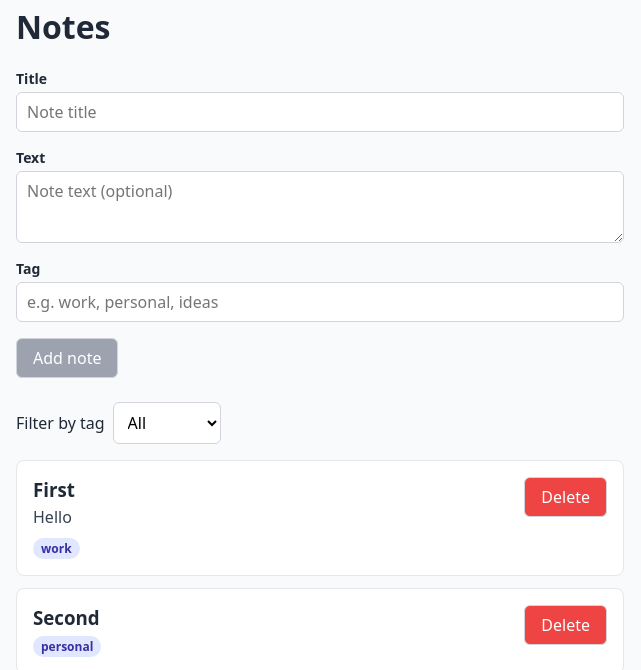
it: Notes with tags UI › shows an error message when deleting a missing note
This screenshot has width=641, height=670.
Expected: the heading "First" is shown, x1=33 y1=477 x2=80 y2=502
Step 1. Click the button with aria-label "Delete note First" → click(566, 497), box x1=524 y1=477 x2=607 y2=517
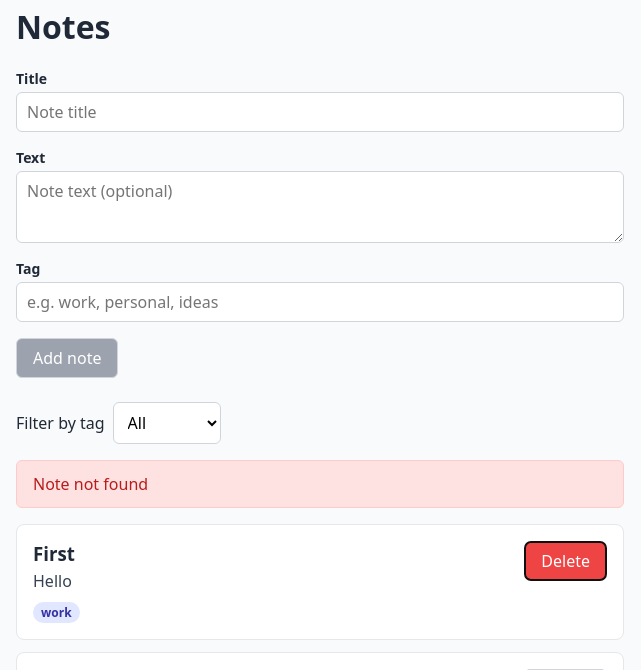
Expected: the message reads "Note not found", x1=33 y1=473 x2=148 y2=495
